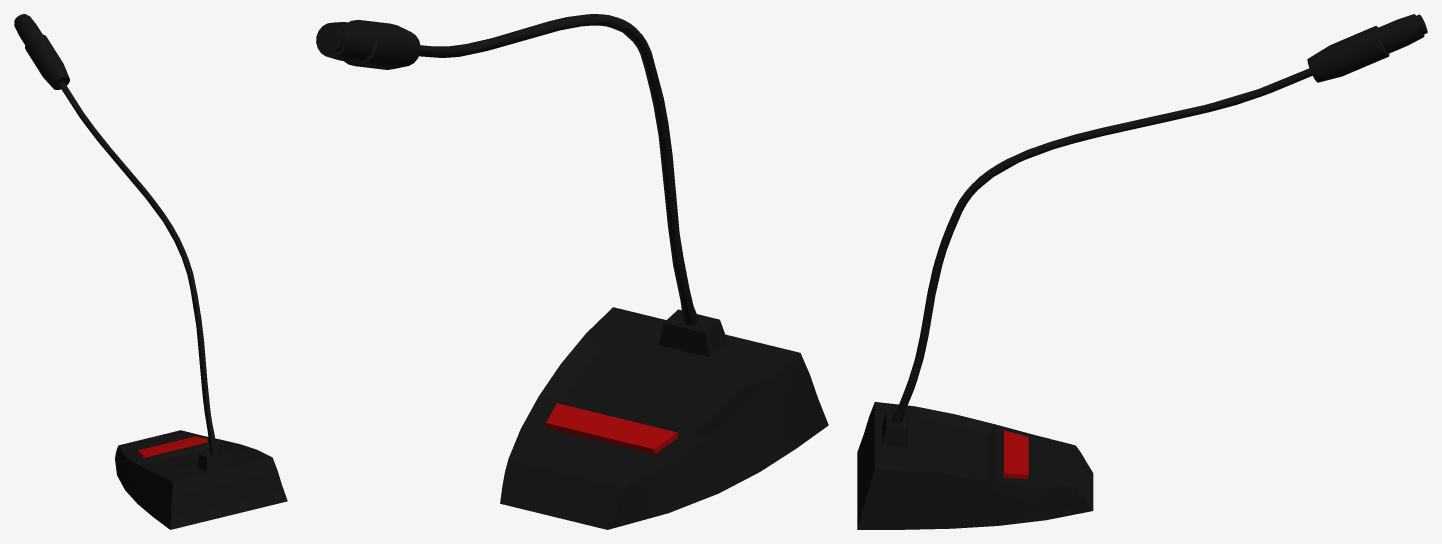
Rendered from Microphone.FBX.
3 renders of one model, left to right at view 1: azimuth 30°, elevation 25°; view 2: azimuth 150°, elevation 25°; view 3: azimuth 270°, elevation 25°, orthographic. The views are drawn at different scales.
Parts seen in each view (by area): view 1: Microphone; view 2: Microphone; view 3: Microphone.
Part boxes in pixels (x1,y1,x2,y2): Microphone: [14, 14, 287, 529]; Microphone: [316, 14, 828, 529]; Microphone: [857, 14, 1427, 529].
Size of the model in its own units: 8.74 by 24.92 by 27.07.
1 material, 1 textured.
